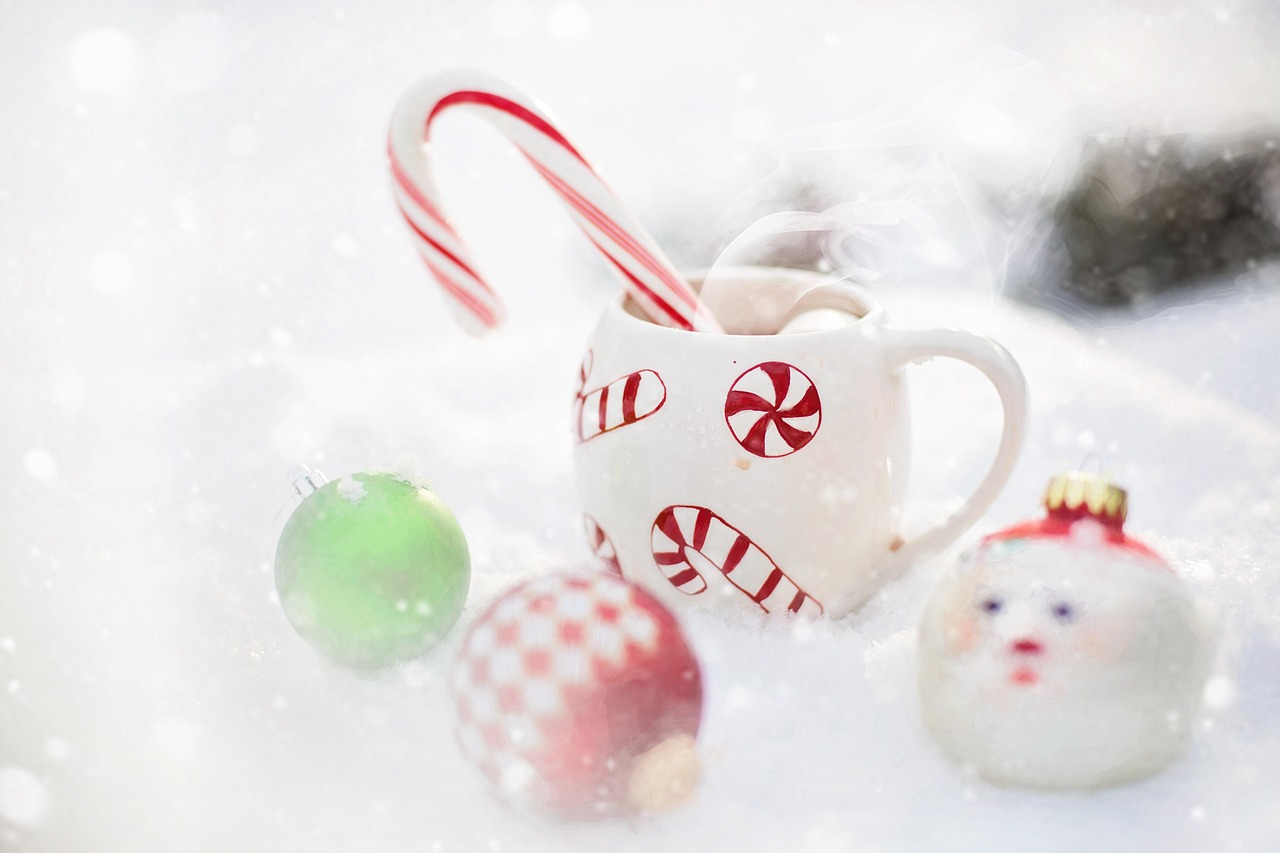mug: (516, 236, 1050, 630)
